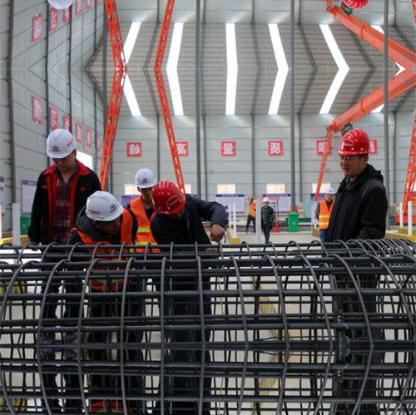helmet: (337, 123, 376, 175), (84, 188, 125, 228), (45, 125, 80, 169), (156, 179, 185, 216), (134, 166, 158, 197), (337, 0, 377, 14), (45, 0, 81, 12), (326, 182, 336, 199), (263, 192, 272, 206)
